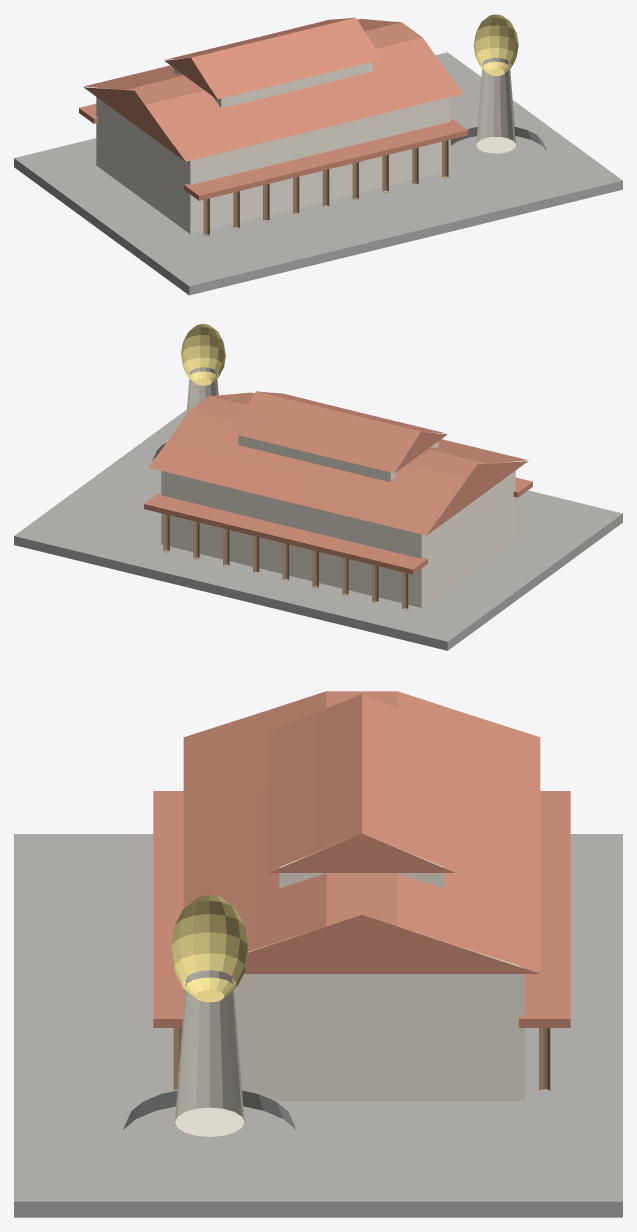
Rendered from lm_93_trung_tam_thi_tran_nam_ban_lam_ha_market_and_silk_plaza.glb.
3 renders of one model, top to bottom at view 1: azimuth 30°, elevation 25°; view 2: azimuth 150°, elevation 25°; view 3: azimuth 270°, elevation 25°, orthographic. The views are drawn at different scales.
Parts seen in each view (by area): view 1: lm_93_trung_tam_thi_tran_nam_ban_lam_ha_market_and_silk_plaz; view 2: lm_93_trung_tam_thi_tran_nam_ban_lam_ha_market_and_silk_plaz; view 3: lm_93_trung_tam_thi_tran_nam_ban_lam_ha_market_and_silk_plaz.
Boxes of the visible parts, x1,y1,x2,y2 form: lm_93_trung_tam_thi_tran_nam_ban_lam_ha_market_and_silk_plaz: [14, 14, 622, 295]; lm_93_trung_tam_thi_tran_nam_ban_lam_ha_market_and_silk_plaz: [14, 324, 622, 650]; lm_93_trung_tam_thi_tran_nam_ban_lam_ha_market_and_silk_plaz: [14, 691, 622, 1217].
Bounding box in the file's own units: 40 × 13.2 × 28.
